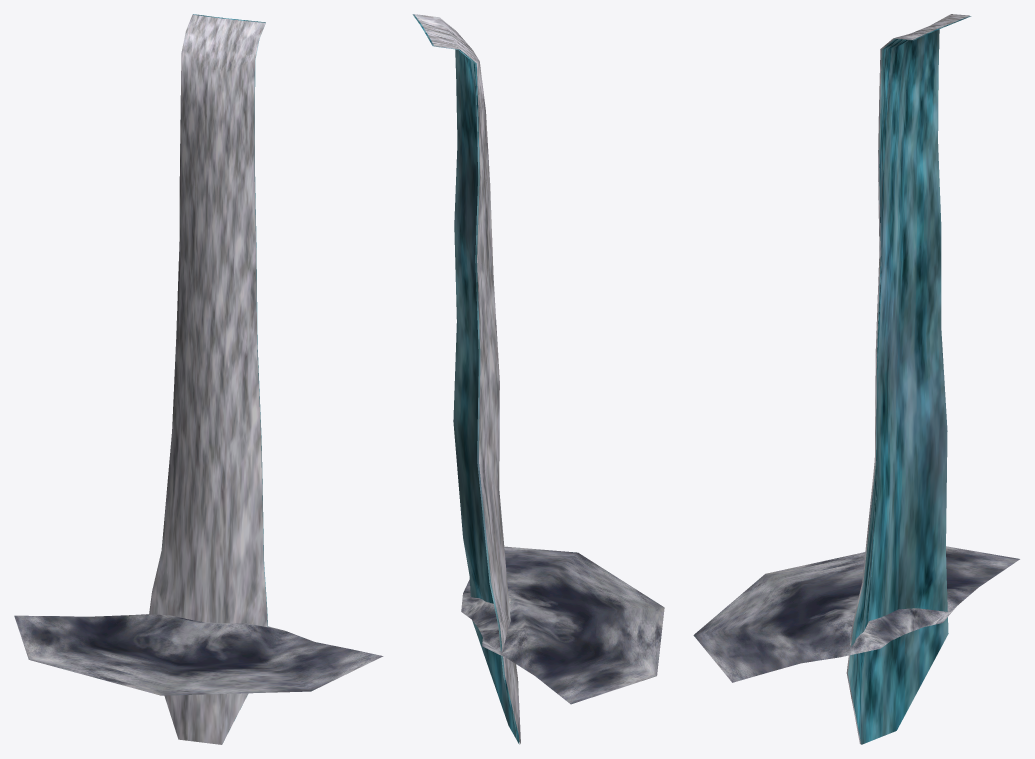
File: OVERHILL_A_01_WATERFALLS02.fbx
3 views of the same model, side by side, from view 1: azimuth 30°, elevation 25°; view 2: azimuth 150°, elevation 25°; view 3: azimuth 270°, elevation 25° (orthographic). The views are drawn at different scales.
Visible parts, largest first — view 1: OVERHILL_A_01_WATERFALLS02; view 2: OVERHILL_A_01_WATERFALLS02; view 3: OVERHILL_A_01_WATERFALLS02.
Part boxes in pixels (box(x1,y1,x2,y2)): OVERHILL_A_01_WATERFALLS02: box(14, 14, 383, 744); OVERHILL_A_01_WATERFALLS02: box(412, 14, 664, 744); OVERHILL_A_01_WATERFALLS02: box(693, 14, 1019, 744).
Size of the model in its own units: 74302 by 180810 by 72409.
3 materials, 3 textured.
